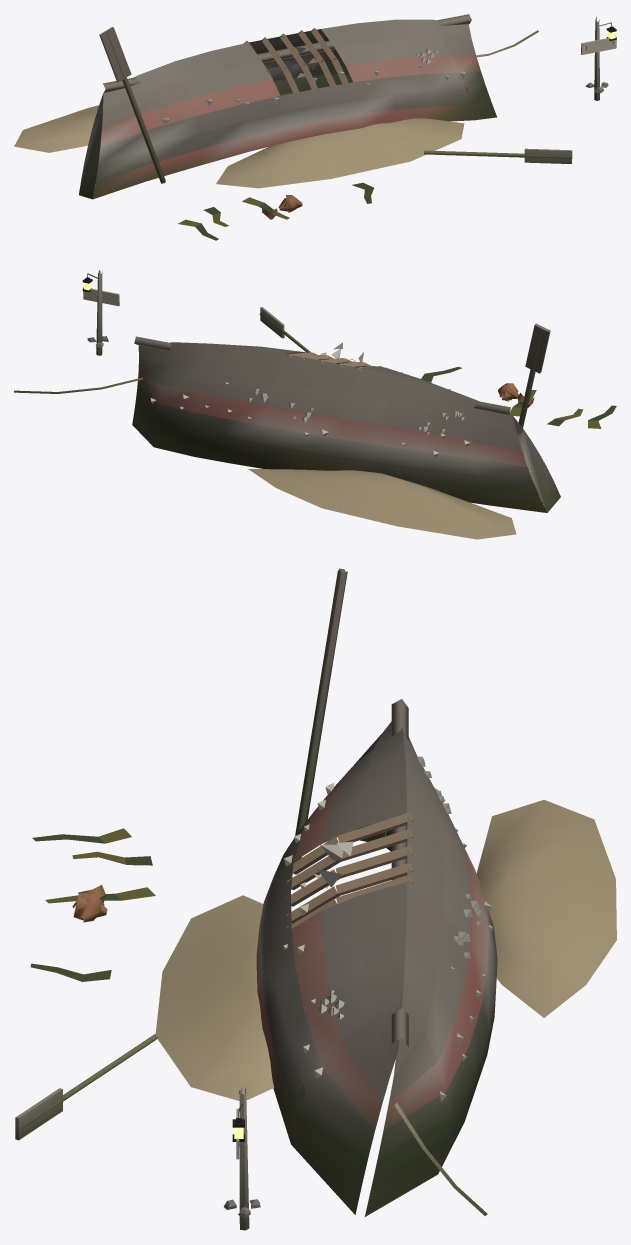
The model's file is wreck_capsized.glb.
The picture shows the model from 3 angles, top to bottom: view 1: azimuth 30°, elevation 25°; view 2: azimuth 150°, elevation 25°; view 3: azimuth 270°, elevation 25°; orthographic projection. The views are drawn at different scales.
Parts seen in each view (by area): view 1: hull, epitaph; view 2: hull, epitaph; view 3: hull, epitaph.
Part boxes in pixels (x1,y1,x2,y2): hull: (14, 14, 572, 240); epitaph: (581, 16, 616, 100); hull: (14, 307, 616, 539); epitaph: (82, 270, 119, 355); hull: (15, 568, 616, 1216); epitaph: (223, 1087, 260, 1230).
Size of the model in its own units: 16.22 by 5.7 by 9.68.
